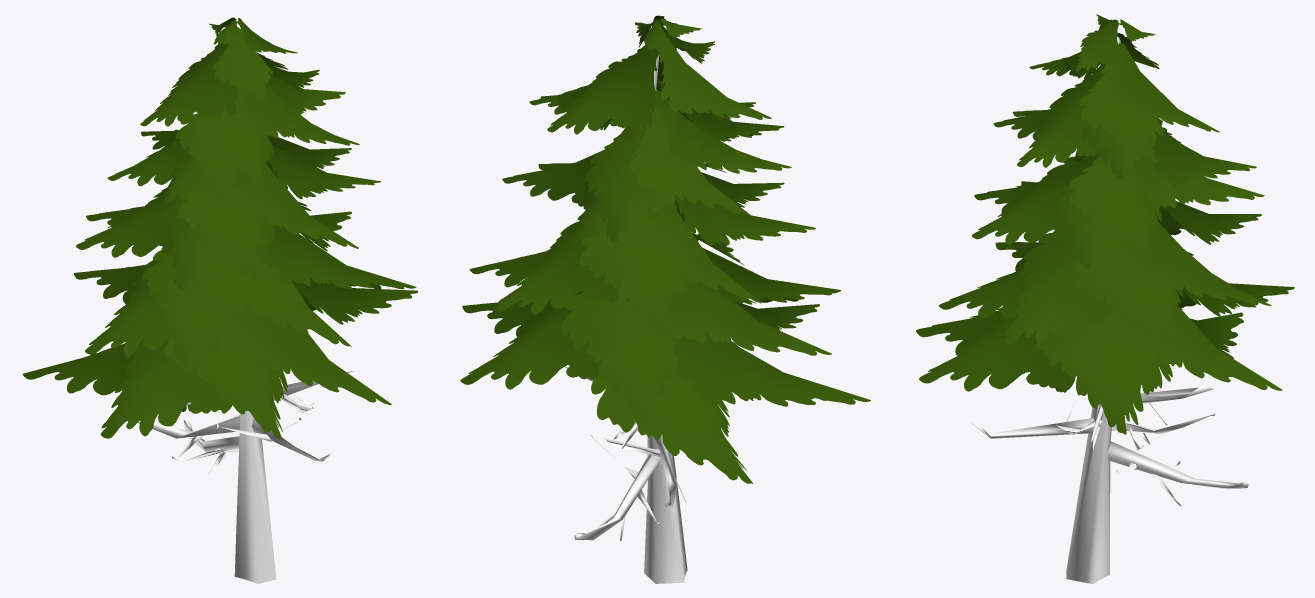
The model's file is pine-1-distant.glb.
The picture shows the model from 3 angles, left to right: view 1: azimuth 30°, elevation 25°; view 2: azimuth 150°, elevation 25°; view 3: azimuth 270°, elevation 25°; orthographic projection. The views are drawn at different scales.
Parts seen in each view (by area): view 1: Pine_1; view 2: Pine_1; view 3: Pine_1.
Part boxes in pixels (box(x1,y1,x2,y2)): Pine_1: box(22, 17, 417, 583); Pine_1: box(460, 15, 870, 583); Pine_1: box(916, 14, 1294, 583).
Size of the model in its own units: 4.94 by 7.08 by 4.54.
2 materials, 1 textured.
